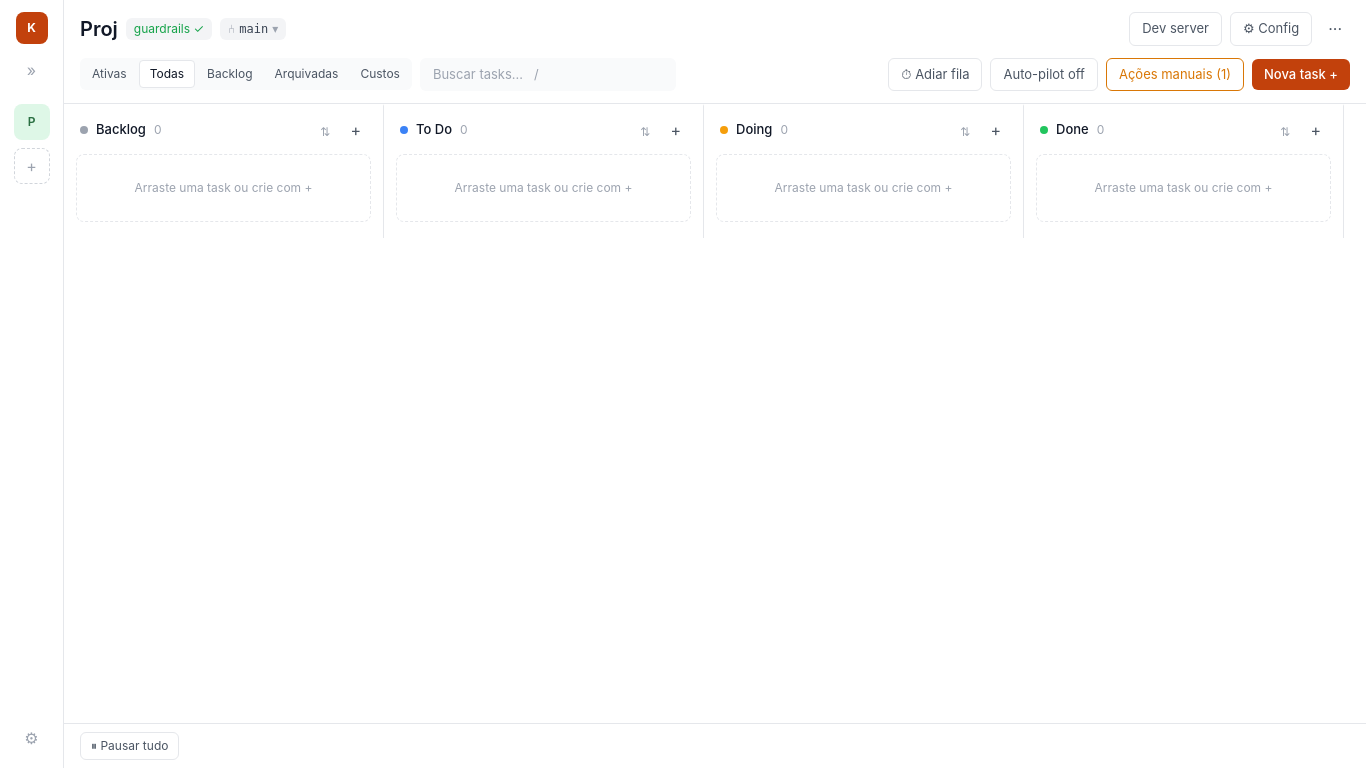
Test: modal de ações manuais › mostra o exit code quando o comando falha
Click the button "Ações manuais (1)": (1175, 74) 1106,58 -> 1244,91
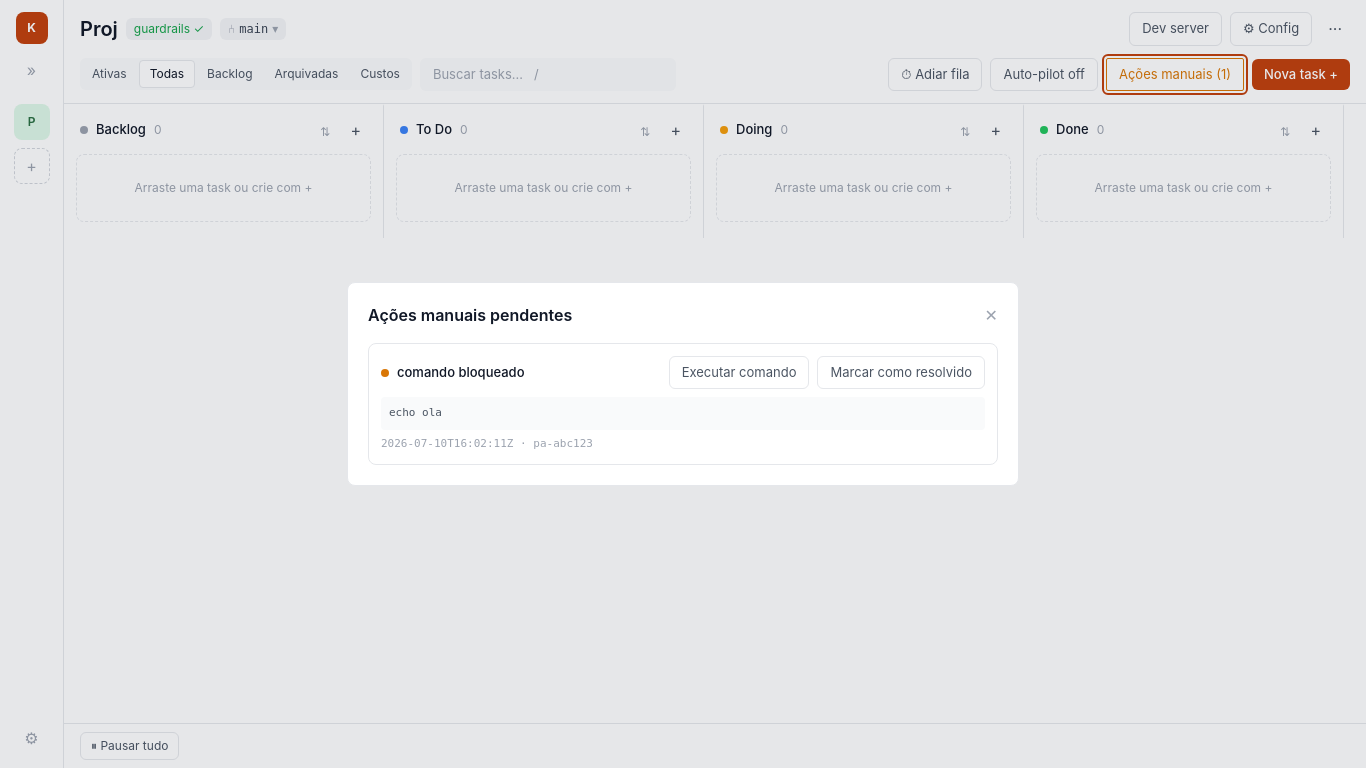
Click the button "Executar comando": (739, 373) 669,356 -> 809,389
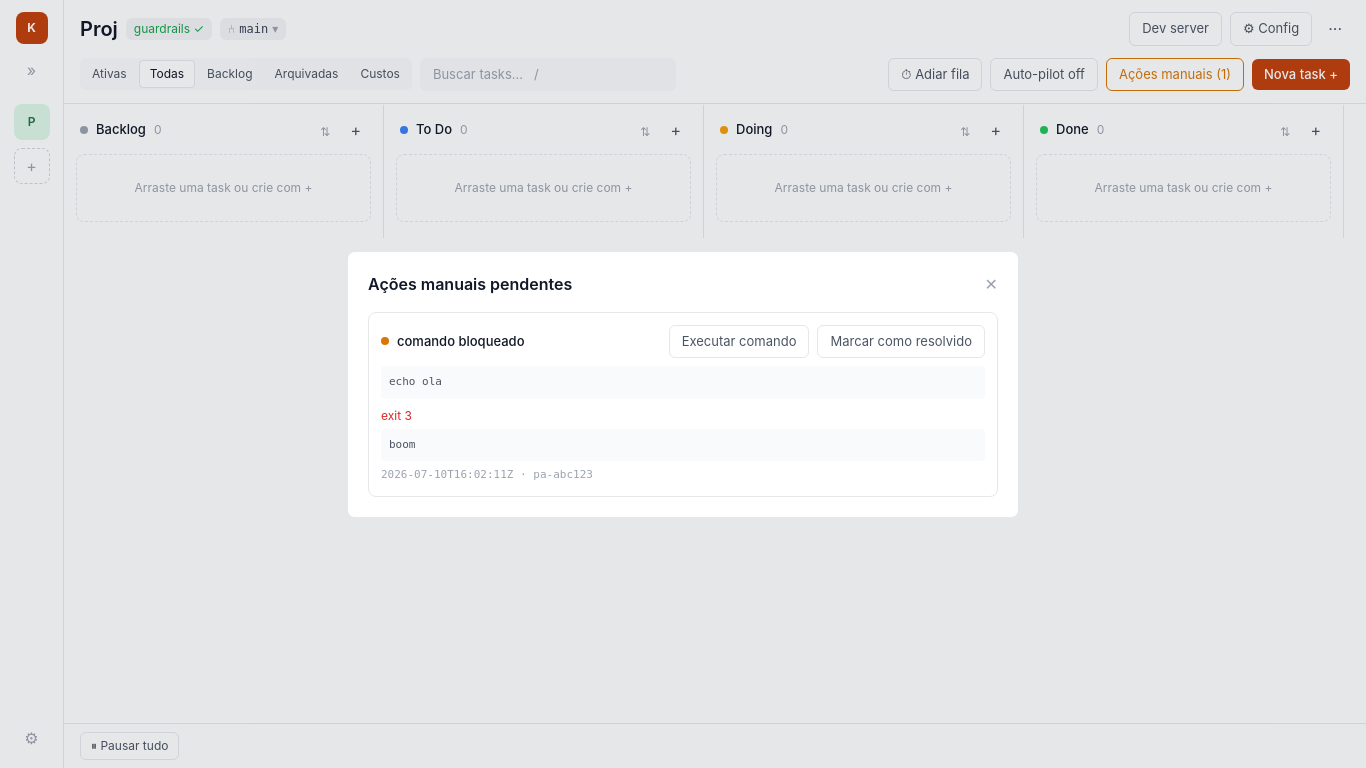
Check: the text "exit 3" is shown, box 381,408 -> 412,422
Check: the text "boom" is shown, box 381,428 -> 985,461
